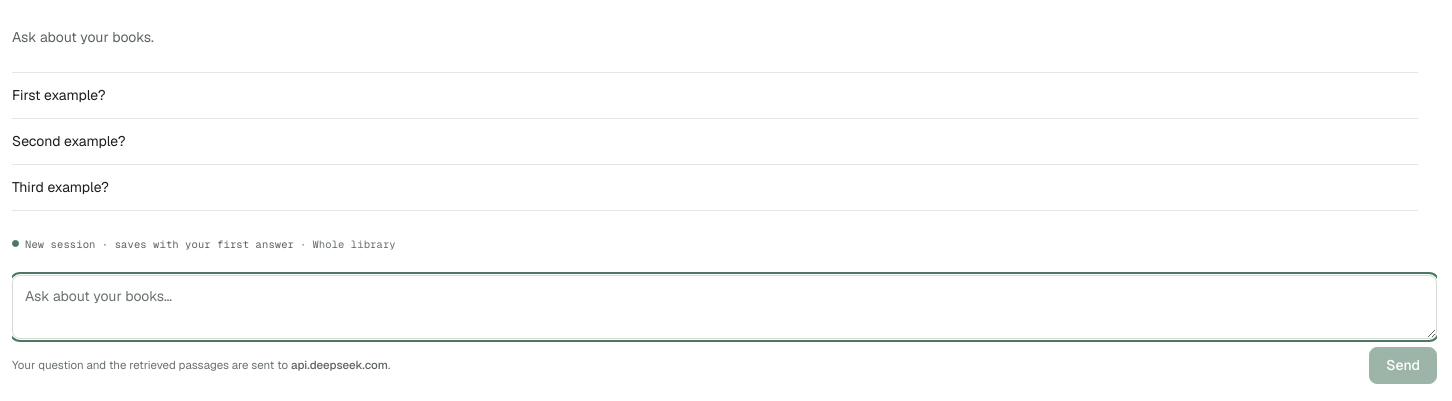
Scenario: ChatPanel › streams an answer with citation links and reports the new conversation
This screenshot has width=1452, height=401.
(page scrolled)
In the text box named "Your question": (724, 307) [12, 275, 1437, 339], type "How does it work?"
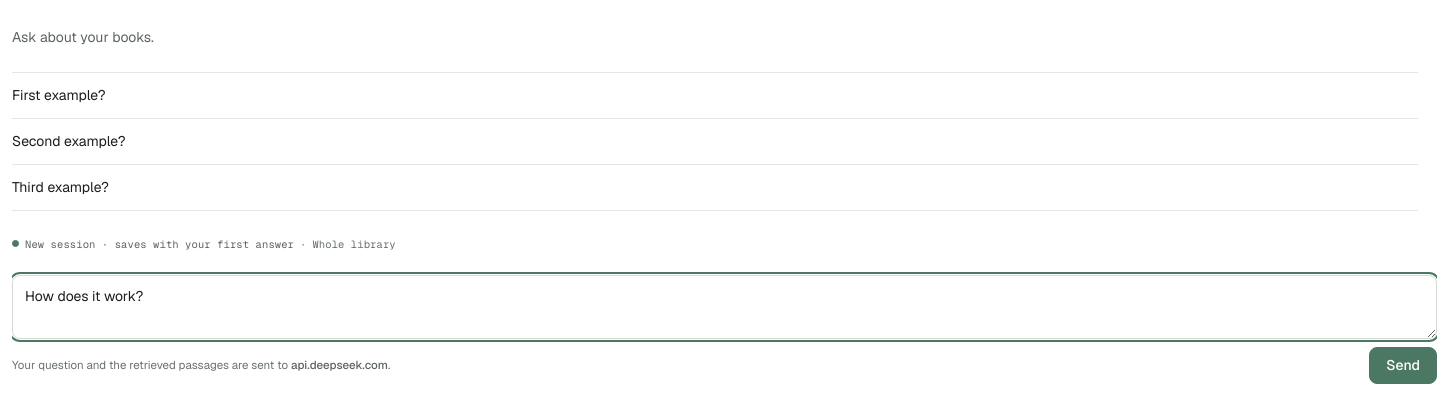
Click the button "Send": (1403, 366) [1369, 347, 1437, 384]
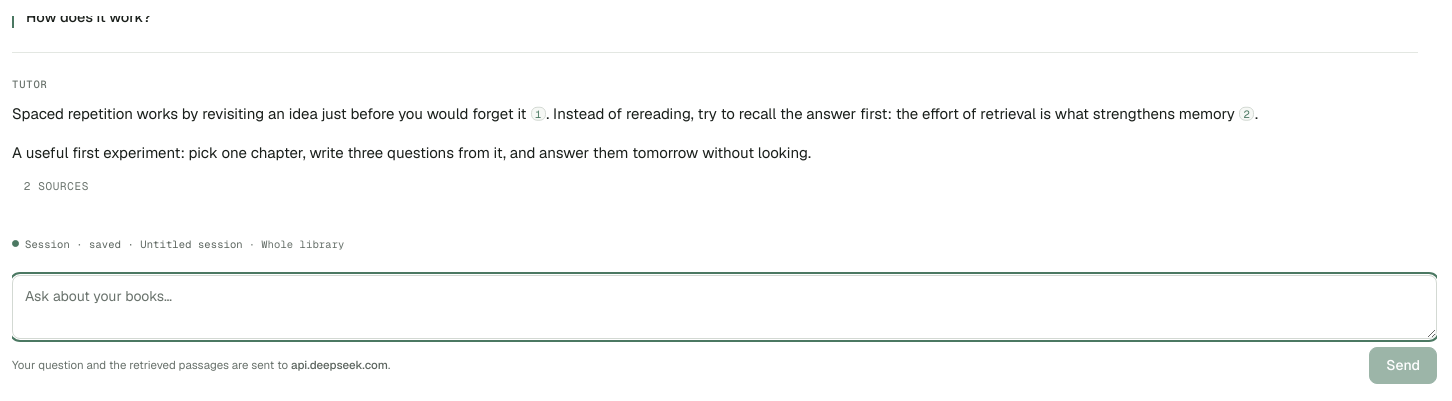
Now the text "Spaced repetition works" is shown, box [12, 104, 530, 123]
Now the heading "2 sources" is shown, box [24, 179, 89, 193]
